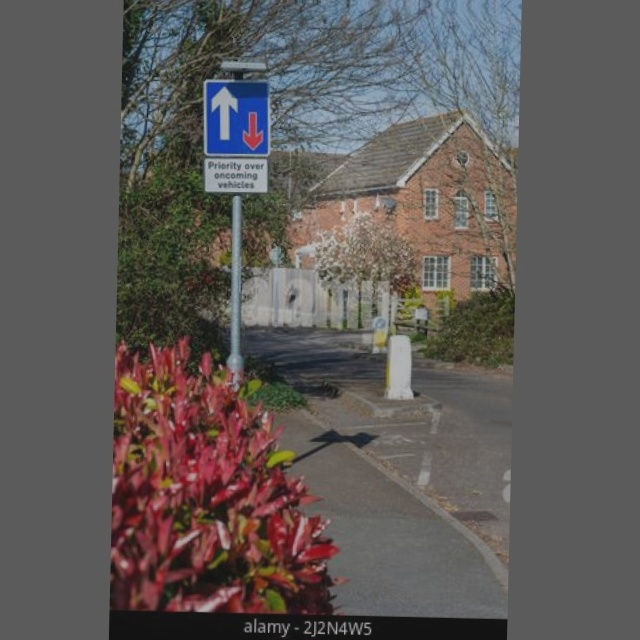Priority_for_Oncoming_Traffic: (203, 79, 271, 156)
